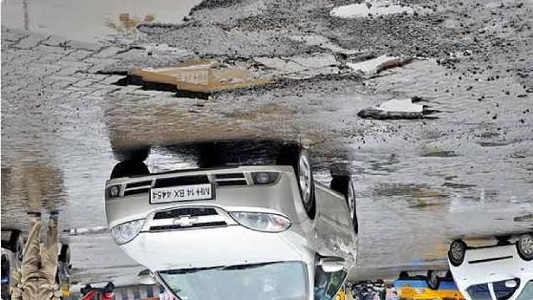pothole: (97, 44, 414, 103), (0, 0, 260, 44), (356, 93, 442, 124), (328, 0, 423, 19)
